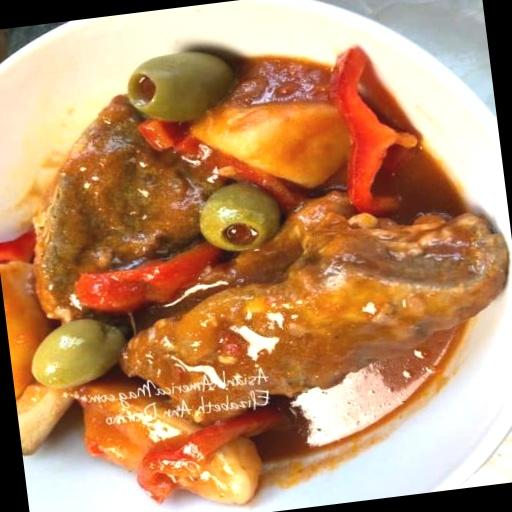pork caldereta: (1, 51, 498, 499)
